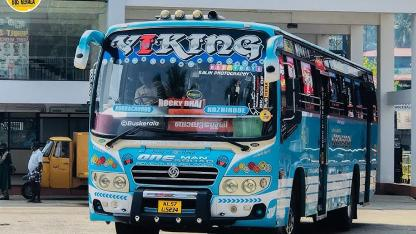bus: (71, 6, 383, 234)
